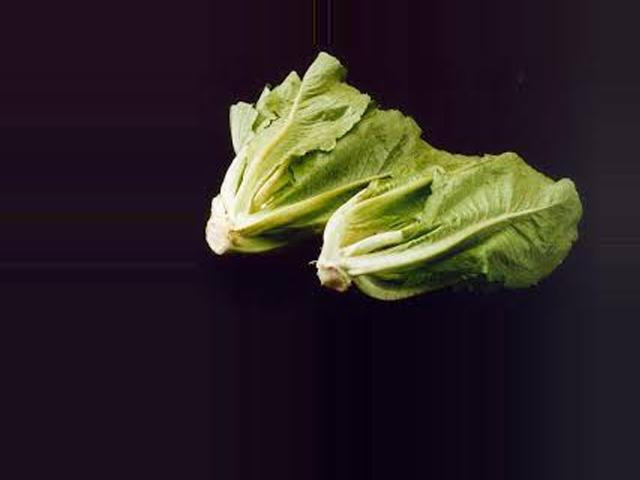lettuce: (204, 54, 466, 282)
